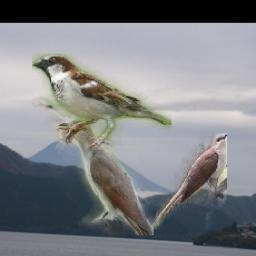Cuckoo: (58, 118, 155, 235), (151, 134, 228, 230)
Sparrow: (33, 55, 173, 151)
